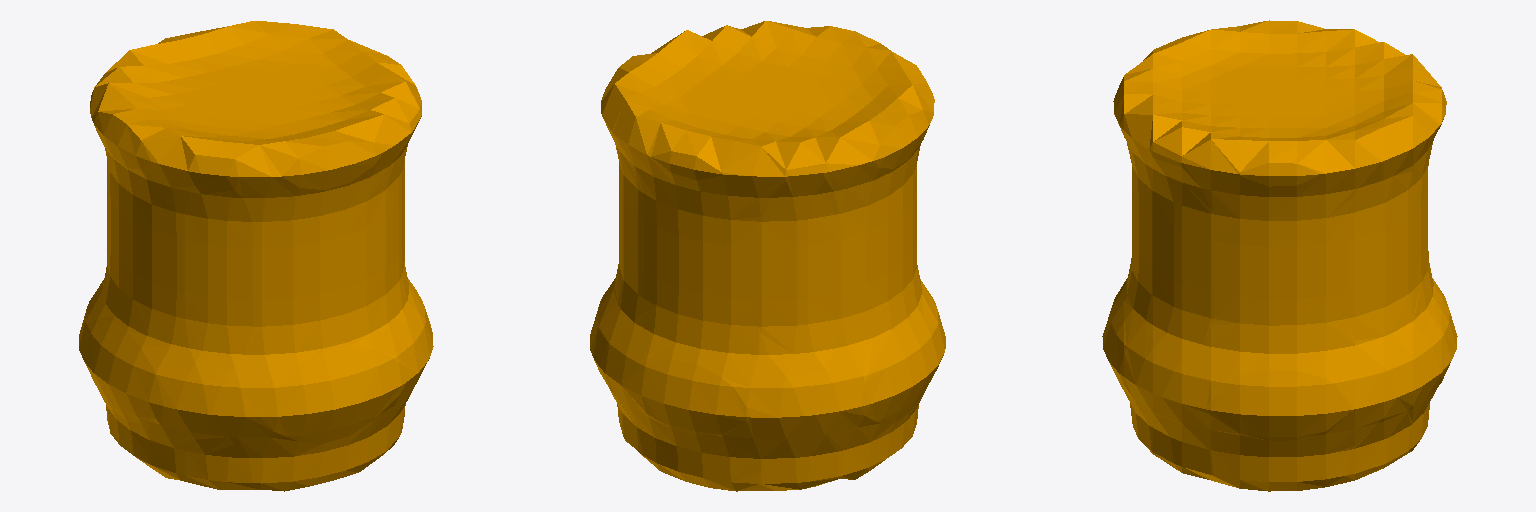
robot.urdf — cylinder_../../meshes/cylinders/cylinder_73.stl:
<?xml version="1.0" encoding="utf-8"?>  <robot name="cylinder_../../meshes/cylinders/cylinder_73.stl">   <link name="cylinder_../../meshes/cylinders/cylinder_73.stl">     <visual>       <geometry>         <mesh filename="../meshes/cylinders/cylinder_73.stl" scale="1 1 1"/>       </geometry>     </visual>     <collision>       <geometry>         <mesh filename="../meshes/cylinders/cylinder_73.stl" scale="1 1 1"/>       </geometry>     </collision>     <inertial>        <origin         xyz="0 0 0"         rpy="0 0 0" />       <mass value="0.15033315471481695"/>       <origin rpy="0 0 0" xyz="0 0 0"/>       <inertia ixx="8.178964601087942e-05" ixy="-3.502329119332938e-08" ixz="4.6160437829414074e-08" iyy="8.178597802986761e-05" iyz="4.847425837927925e-08" izz="5.576123121899251e-05"/>     </inertial>   </link>  </robot>

--- What the picture shows (computed from the rendered views, not written in the file) ---
Views: 3 orthographic renders of the robot side by side, from view 1: azimuth 30°, elevation 25°; view 2: azimuth 150°, elevation 25°; view 3: azimuth 270°, elevation 25°.
Model cylinder_../../meshes/cylinders/cylinder_73.stl with 1 links and 0 joints (none), rooted at cylinder_../../meshes/cylinders/cylinder_73.stl, posed all joints at 0.
Visible links, largest first — view 1: cylinder_../../meshes/cylinders/cylinder_73.stl; view 2: cylinder_../../meshes/cylinders/cylinder_73.stl; view 3: cylinder_../../meshes/cylinders/cylinder_73.stl.
Boxes of the visible links, x1,y1,x2,y2 form: cylinder_../../meshes/cylinders/cylinder_73.stl: (79,21,433,491); cylinder_../../meshes/cylinders/cylinder_73.stl: (590,21,945,491); cylinder_../../meshes/cylinders/cylinder_73.stl: (1102,20,1457,491).
Bounding box of the posed robot: 0.0615 × 0.0615 × 0.0677 m (x, y, z).
1 mesh visuals loaded from 1 distinct referenced files (1 binary STL).